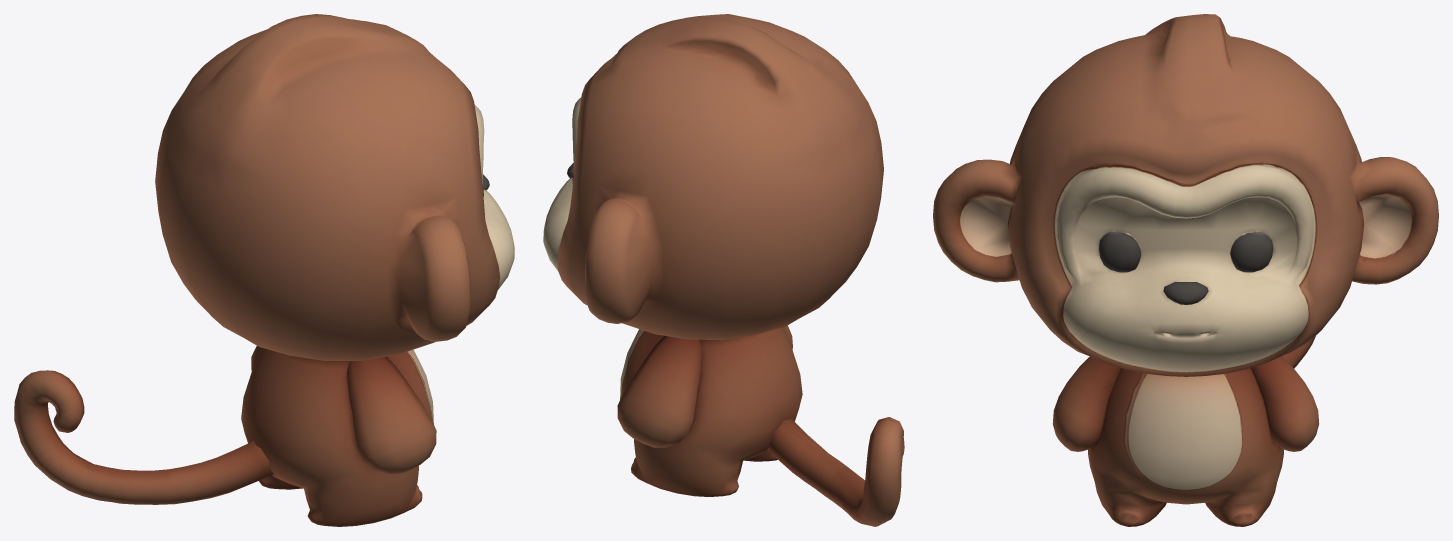
File: monkey.glb
The picture shows the model from 3 angles, left to right: view 1: azimuth 30°, elevation 25°; view 2: azimuth 150°, elevation 25°; view 3: azimuth 270°, elevation 25°; orthographic projection. The views are drawn at different scales.
Visible parts, largest first — view 1: tripo_node_6e2d7aa4-6fc0-4ff9-b7ee-86a331755b14; view 2: tripo_node_6e2d7aa4-6fc0-4ff9-b7ee-86a331755b14; view 3: tripo_node_6e2d7aa4-6fc0-4ff9-b7ee-86a331755b14.
Part boxes in pixels (box(x1,y1,x2,y2)): tripo_node_6e2d7aa4-6fc0-4ff9-b7ee-86a331755b14: box(14, 14, 514, 526); tripo_node_6e2d7aa4-6fc0-4ff9-b7ee-86a331755b14: box(543, 14, 904, 526); tripo_node_6e2d7aa4-6fc0-4ff9-b7ee-86a331755b14: box(933, 14, 1438, 526).
Bounding box in the file's own units: 0.916 × 0.998 × 0.9824.
1 material, 1 textured.
